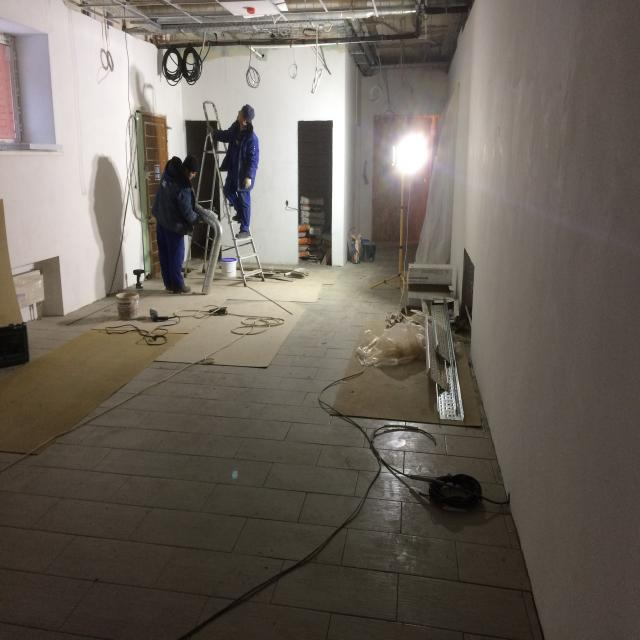NoHelmet: (182, 155, 200, 181), (237, 105, 256, 127)
